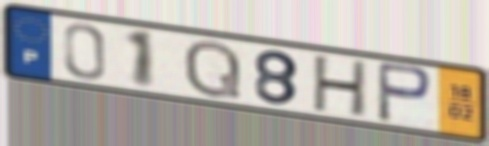0: (60, 22, 108, 81)
1: (122, 28, 157, 89)
8: (252, 48, 301, 108)
H: (309, 53, 371, 120)
P: (374, 59, 435, 126)
Q: (181, 38, 245, 101)
